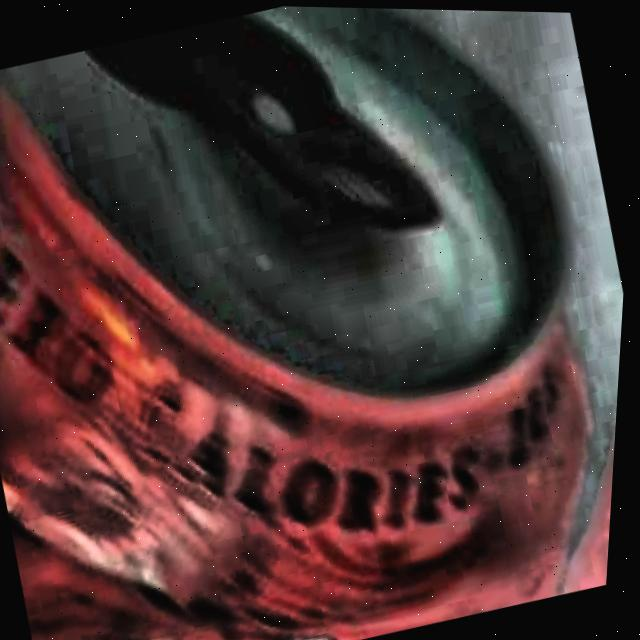metal: (0, 5, 600, 640)
